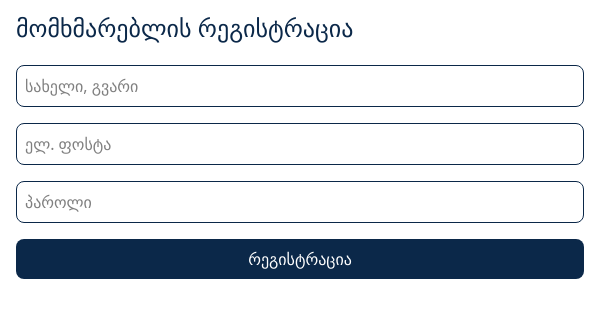
Test: Register Component › shows error message on registration failure
Type "გიორგი მაისურაძე" into the field with placeholder "სახელი, გვარი" at (300, 86), box [16, 65, 584, 107]
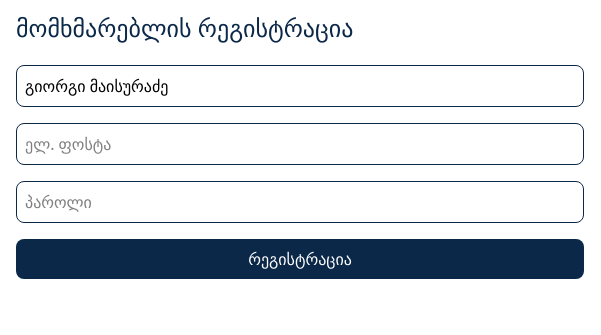
Type "existing@example.com" into the field with placeholder "ელ. ფოსტა" at (300, 144), box [16, 123, 584, 165]
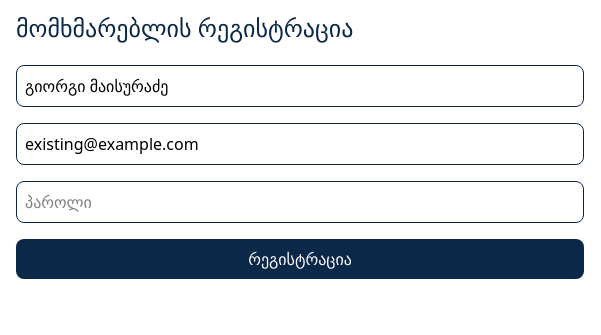
Type "password123" into the password field with placeholder "პაროლი" at (300, 202), box [16, 181, 584, 223]
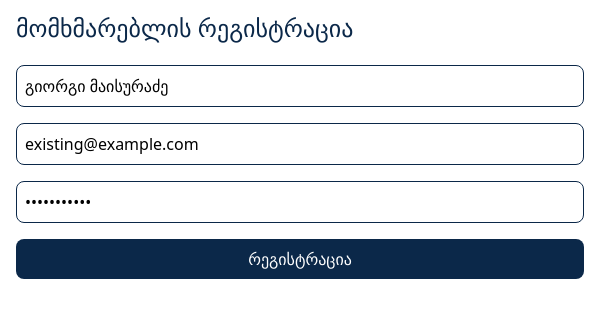
Click the button "რეგისტრაცია" at (300, 259), box [16, 239, 584, 279]
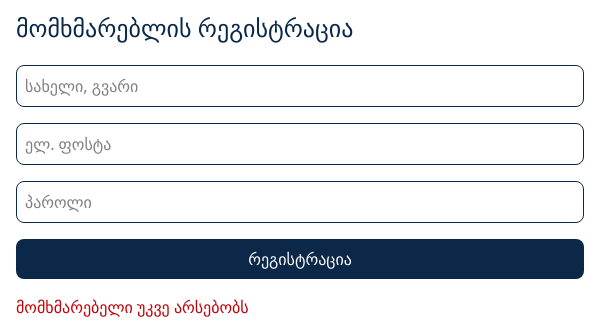
Expected: the text "მომხმარებელი უკვე არსებობს" is shown, [16, 296, 249, 318]
Expected: the field with placeholder "სახელი, გვარი" is empty, [16, 65, 584, 107]
Expected: the field with placeholder "ელ. ფოსტა" is empty, [16, 123, 584, 165]
